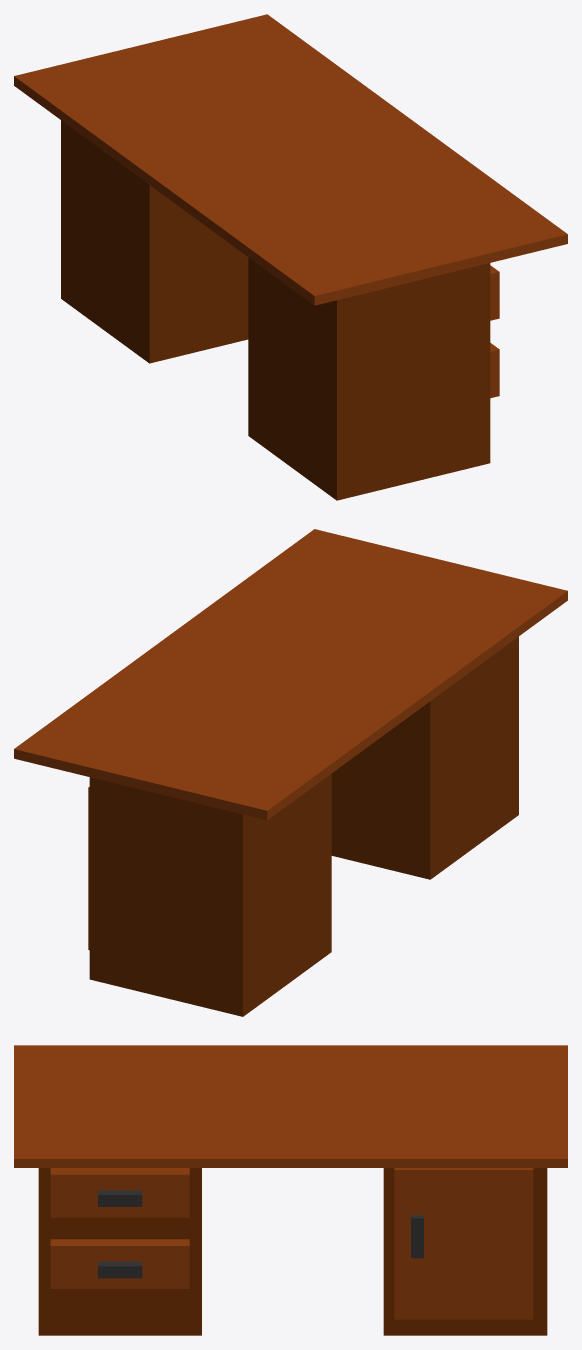
The model's file is desk.fbx.
3 renders of one model, top to bottom at view 1: azimuth 30°, elevation 25°; view 2: azimuth 150°, elevation 25°; view 3: azimuth 270°, elevation 25°, orthographic. The views are drawn at different scales.
Visible parts, largest first — view 1: Blat, Cube szuflady, Cube szafka; view 2: Blat, Cube szafka, Cube szuflady; view 3: Blat, Drzwi szafki, Cube szuflady, szuflada górna, Szuflada dolna, Cube szafka, Klamka szafki.
Boxes of the visible parts, x1=… form: Blat: x1=14, y1=14, x2=567, y2=305; Cube szuflady: x1=248, y1=257, x2=490, y2=500; Cube szafka: x1=61, y1=120, x2=248, y2=363; Blat: x1=14, y1=529, x2=567, y2=820; Cube szafka: x1=89, y1=774, x2=331, y2=1016; Cube szuflady: x1=331, y1=636, x2=518, y2=879; Blat: x1=14, y1=1045, x2=567, y2=1167; Drzwi szafki: x1=394, y1=1168, x2=533, y2=1319; Cube szuflady: x1=38, y1=1168, x2=201, y2=1335; szuflada górna: x1=50, y1=1168, x2=189, y2=1217; Szuflada dolna: x1=50, y1=1239, x2=189, y2=1288; Cube szafka: x1=383, y1=1168, x2=547, y2=1335; Klamka szafki: x1=411, y1=1215, x2=423, y2=1258.
Bounding box in the file's own units: 330 × 278 × 678.
